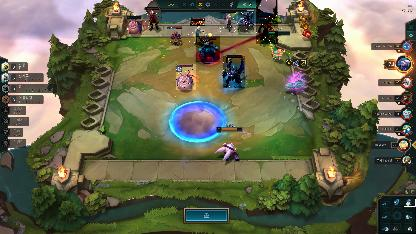1_daeja: (223, 56, 245, 88)
1_heimerdinger: (167, 26, 183, 46)
1_lux: (220, 12, 236, 32)
1_nomsy: (176, 64, 196, 90), (126, 16, 142, 34)
1_nunu: (196, 36, 220, 62)
1_swain: (256, 0, 278, 44)
1_zippy: (144, 7, 162, 31)
2_ezreal: (188, 17, 204, 43)
2_vladimir: (238, 12, 254, 32)
